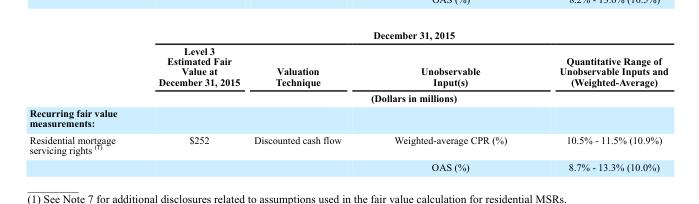table: (28, 28, 667, 172)
table column: (367, 28, 532, 172), (532, 28, 667, 172), (246, 28, 367, 172), (136, 28, 246, 172), (28, 28, 136, 172)
table column header: (28, 28, 667, 105)
table projected row header: (28, 105, 667, 131)
table row: (28, 42, 667, 89), (28, 105, 667, 131), (28, 131, 667, 157), (28, 89, 667, 105), (28, 157, 667, 172), (28, 28, 667, 42)
table spanning cell: (136, 89, 667, 105), (136, 28, 667, 42)
